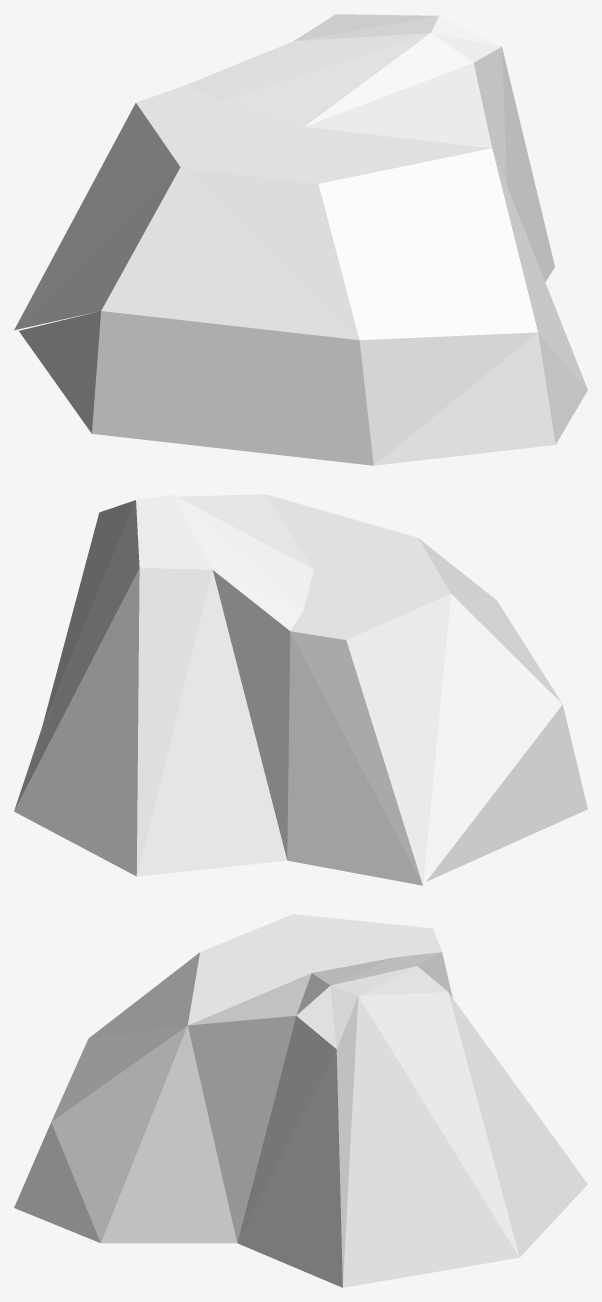
3 renders of one model, top to bottom at view 1: azimuth 30°, elevation 25°; view 2: azimuth 150°, elevation 25°; view 3: azimuth 270°, elevation 25°, orthographic. The views are drawn at different scales.
Size of the model in its own units: 174 by 87 by 185.
1 material, 1 textured.
